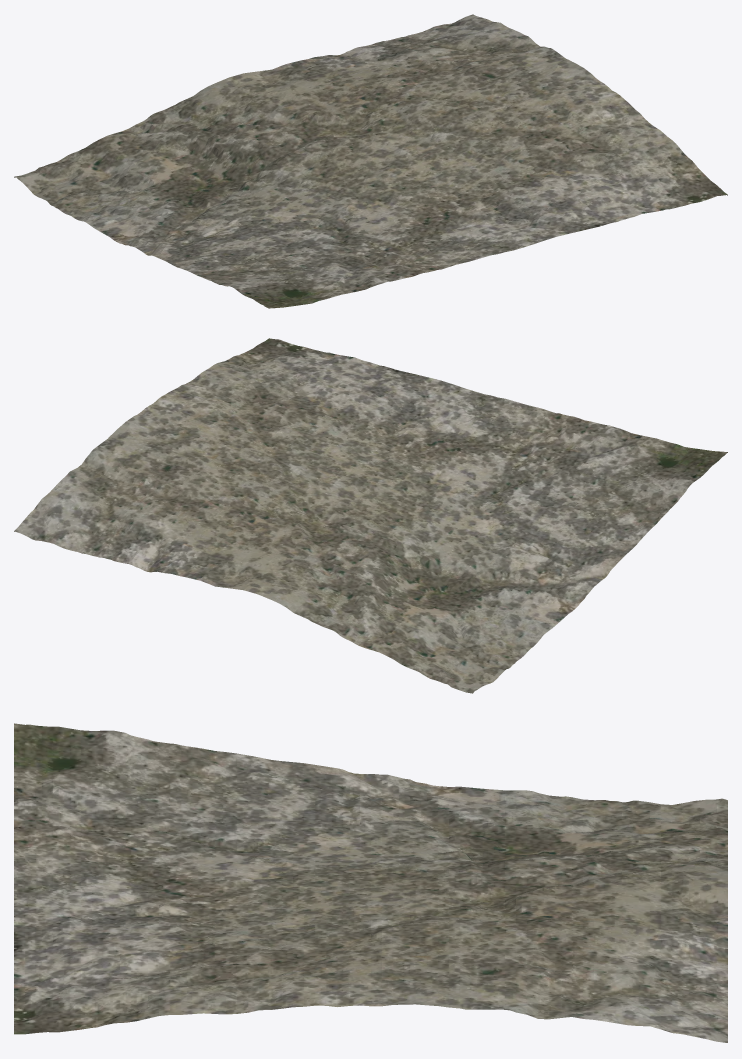
3 views of the same model, one above another, from view 1: azimuth 30°, elevation 25°; view 2: azimuth 150°, elevation 25°; view 3: azimuth 270°, elevation 25° (orthographic). The views are drawn at different scales.
Bounding box in the file's own units: 500 × 85.86 × 481.
1 material, 1 textured.
